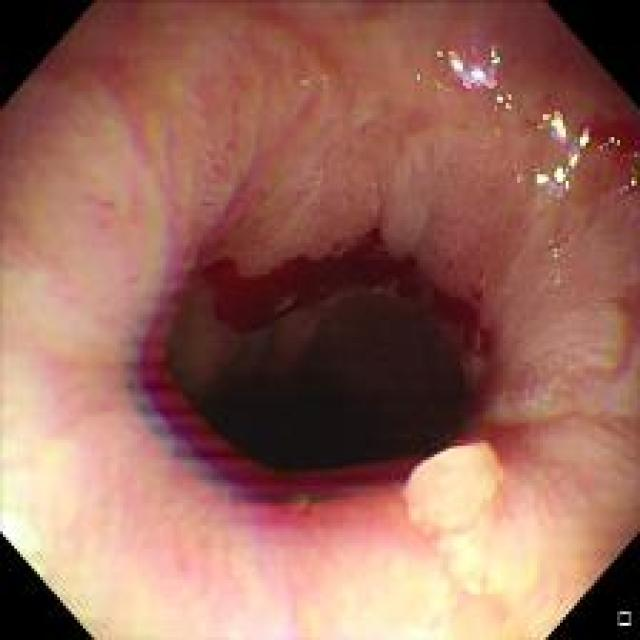blood: (200, 240, 480, 350)
color misalignment: (128, 80, 345, 535), (524, 90, 629, 216), (426, 24, 509, 98), (542, 235, 564, 295), (625, 134, 639, 202), (489, 95, 515, 118), (562, 30, 579, 50)
contrast: (166, 221, 494, 500)
saturation: (4, 512, 578, 636)
